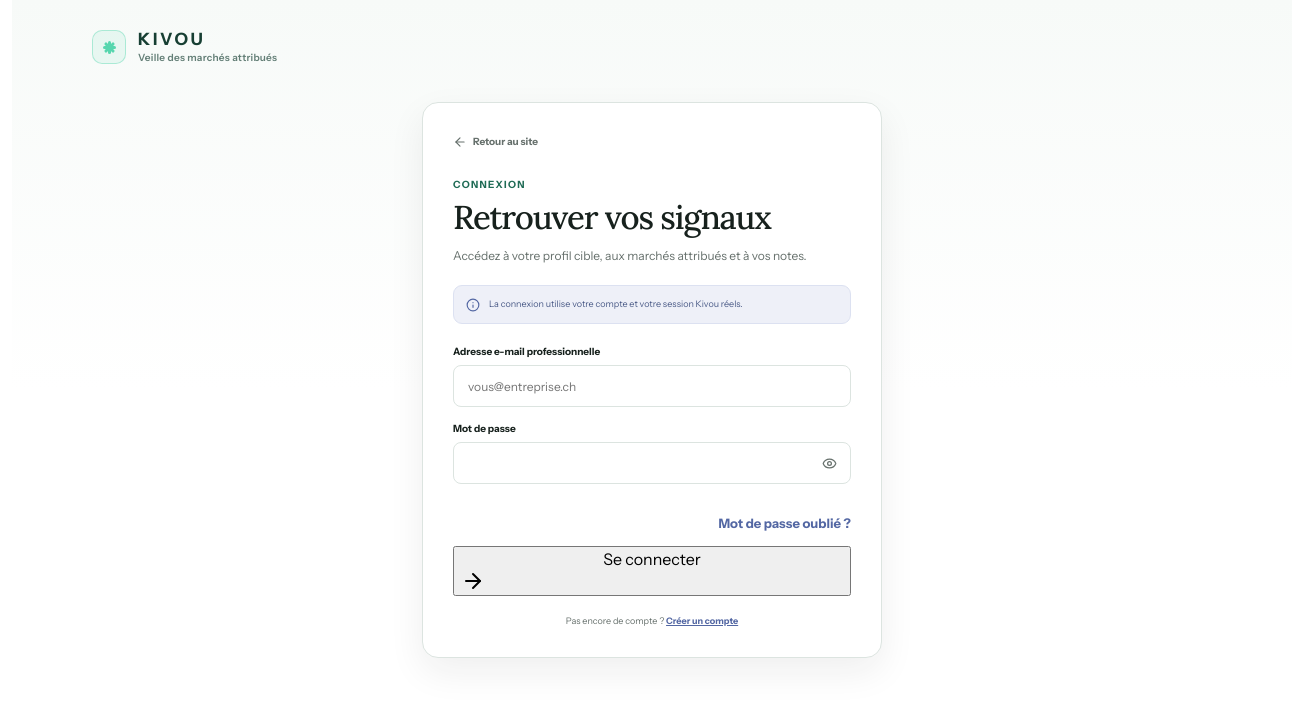
Test: plan porté uniquement dans l’URL › redirige un compte prêt connecté depuis le choix public vers cette offre
Type "test@example.test" into the field labelled "Adresse e-mail professionnelle" at (652, 386), box top-left (453, 365), bottom-right (851, 407)
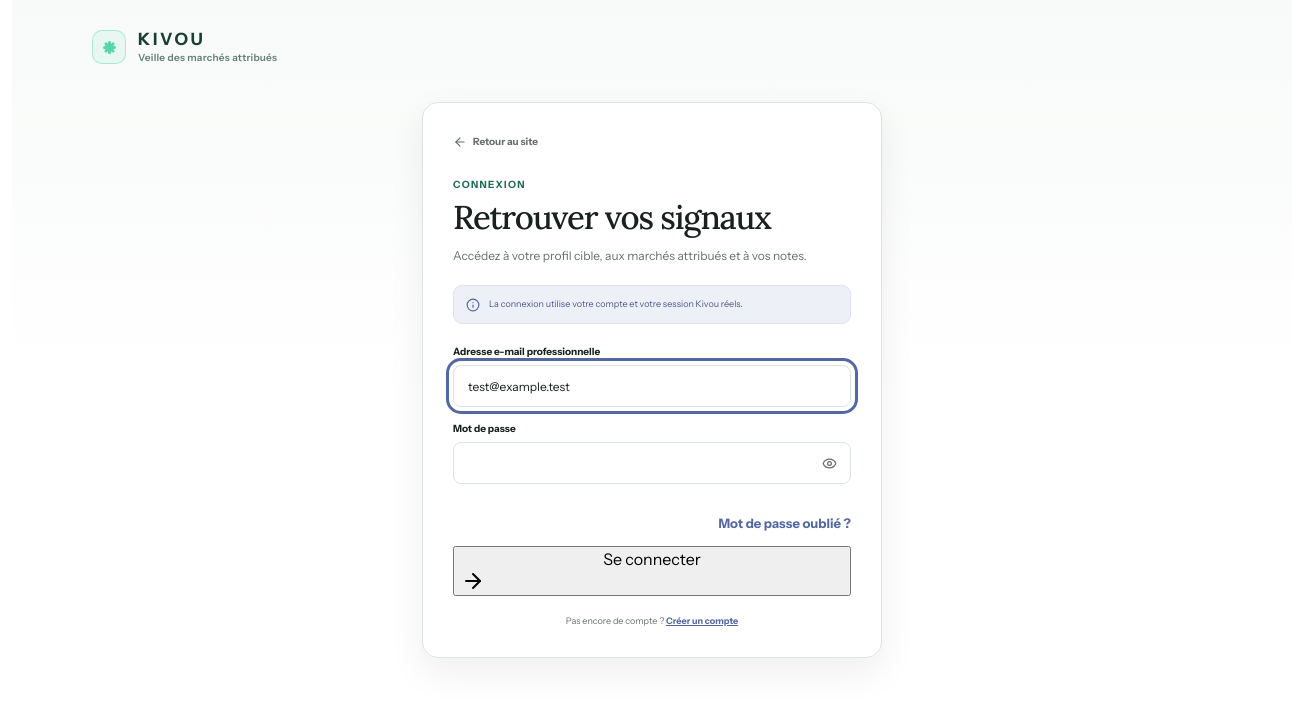
Type "correct-password" into the password field labelled "Mot de passe" at (652, 463), box top-left (453, 442), bottom-right (851, 484)
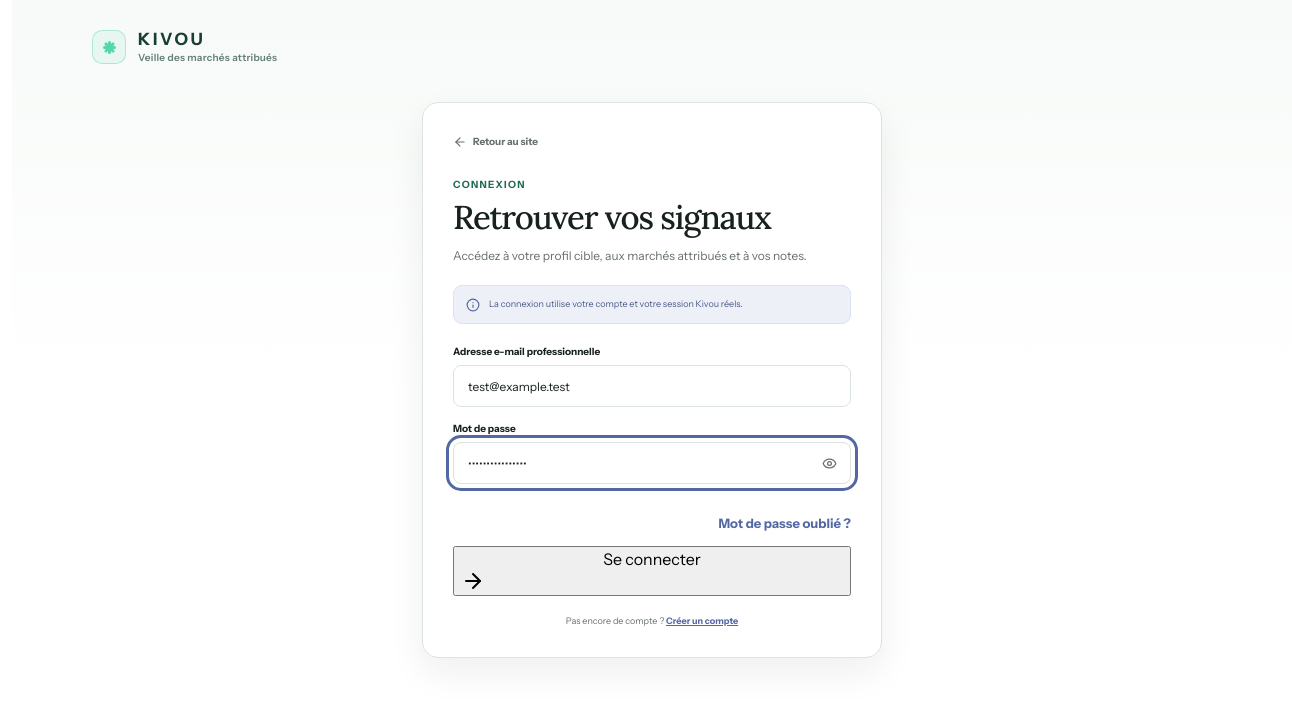
Click the button "Se connecter" at (652, 571), box top-left (453, 546), bottom-right (851, 596)
(page scrolled)
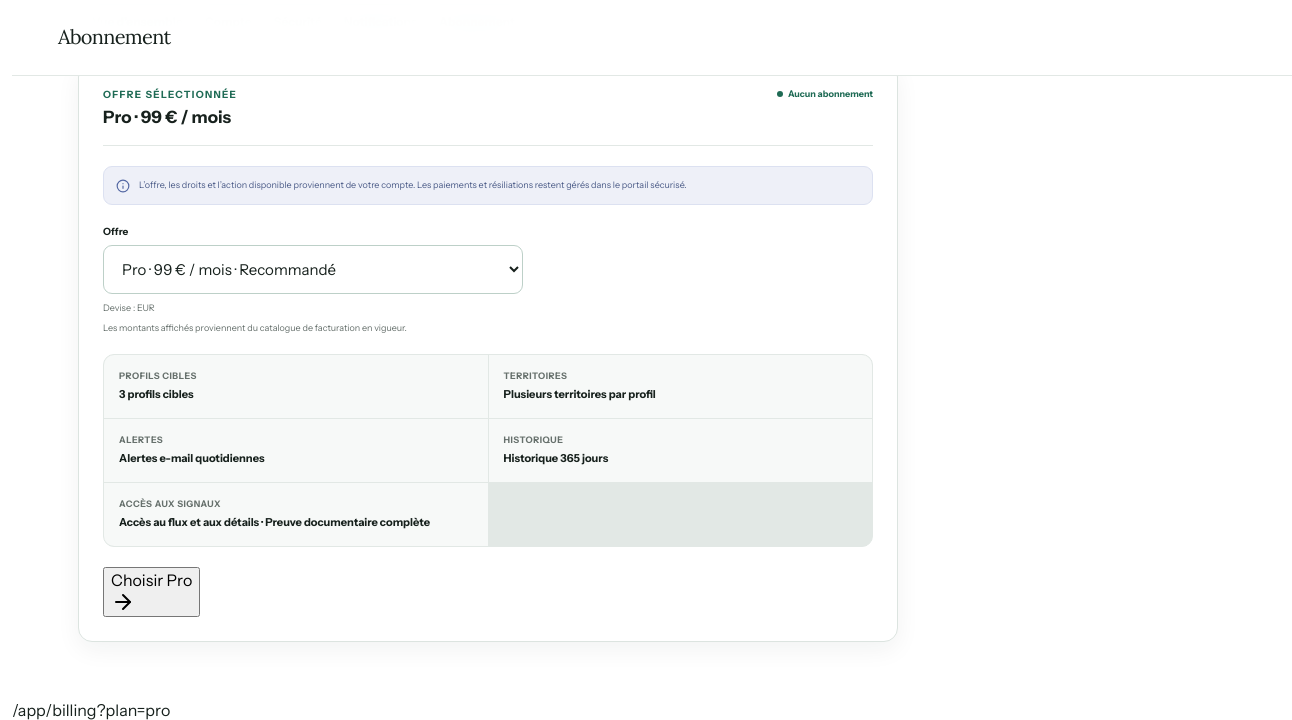
Now the text with test id "location" reads "/app/billing?plan=pro", box top-left (12, 700), bottom-right (170, 719)
